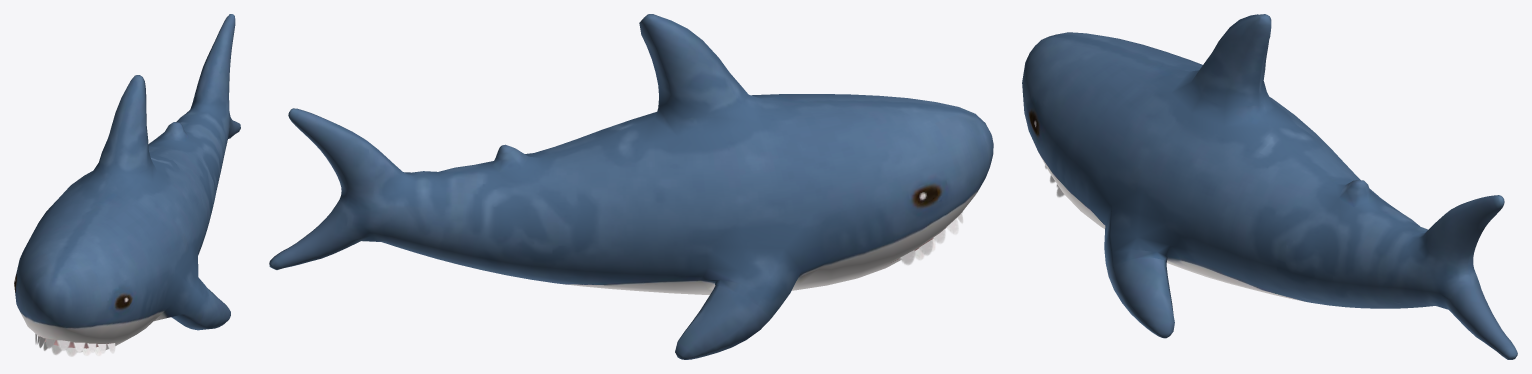
File: blahaj.glb
3 renders of one model, left to right at view 1: azimuth 30°, elevation 25°; view 2: azimuth 150°, elevation 25°; view 3: azimuth 270°, elevation 25°, orthographic. The views are drawn at different scales.
Parts seen in each view (by area): view 1: Low_poly_blahaj1; view 2: Low_poly_blahaj1; view 3: Low_poly_blahaj1.
Part boxes in pixels (left/top/right/bottom): Low_poly_blahaj1: left=14, top=14, right=240, bottom=356; Low_poly_blahaj1: left=269, top=14, right=993, bottom=359; Low_poly_blahaj1: left=1022, top=14, right=1517, bottom=359.
Size of the model in its own units: 0.0571 by 0.0325 by 0.0499.
Materials: 2 (2 with a texture image).
